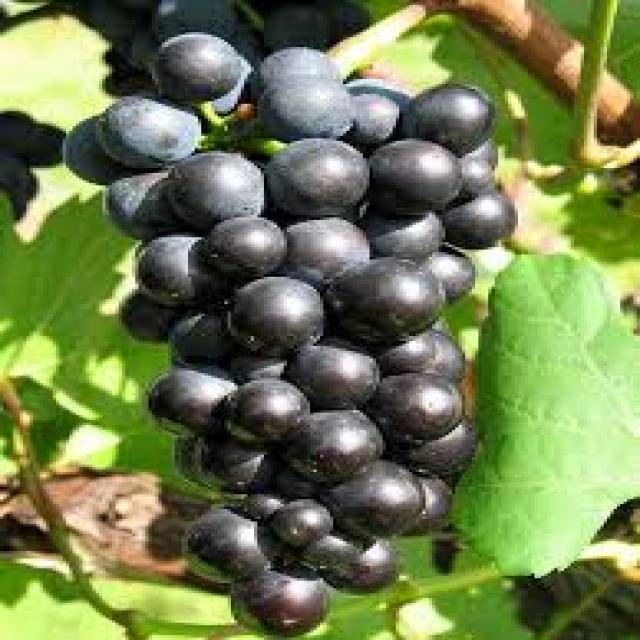organic waste: (323, 255, 439, 336), (257, 133, 363, 215), (224, 274, 324, 354), (178, 504, 277, 583), (323, 454, 419, 534), (96, 91, 198, 166), (277, 403, 379, 477), (224, 563, 324, 635), (363, 133, 455, 210), (370, 370, 465, 444), (399, 82, 492, 153), (145, 30, 238, 101), (165, 154, 261, 222), (284, 333, 376, 402), (369, 412, 472, 470), (257, 74, 353, 136), (145, 361, 231, 430), (132, 235, 221, 301), (300, 529, 399, 588), (248, 42, 336, 106), (99, 168, 188, 230), (198, 212, 284, 276), (280, 215, 366, 279), (188, 430, 280, 489), (56, 114, 135, 178), (211, 376, 304, 430), (343, 74, 406, 151), (436, 185, 512, 247), (360, 200, 442, 257), (162, 302, 244, 358), (258, 0, 336, 52), (396, 469, 452, 534), (172, 432, 234, 490), (419, 242, 472, 304), (145, 0, 231, 37), (53, 0, 142, 35), (119, 292, 178, 341), (294, 529, 366, 568), (267, 494, 327, 539), (376, 324, 429, 371), (102, 22, 142, 72), (221, 351, 287, 380), (425, 328, 462, 376), (221, 489, 277, 519), (455, 153, 495, 193), (23, 121, 63, 161), (452, 136, 495, 173), (327, 0, 366, 40), (271, 462, 320, 492), (0, 151, 33, 195), (96, 67, 142, 96), (0, 109, 33, 148), (228, 20, 254, 64), (3, 190, 23, 218)
